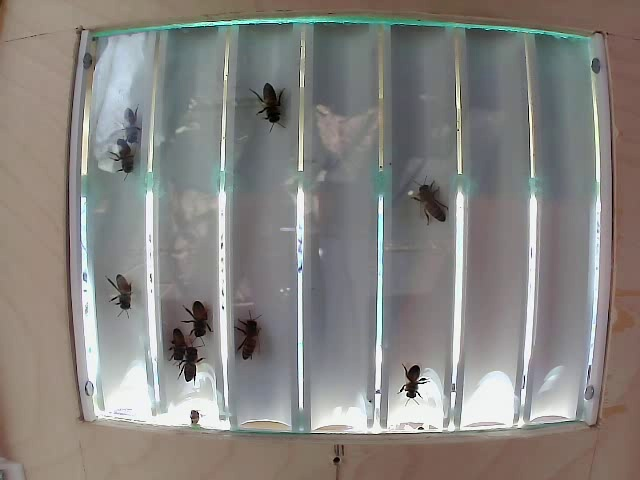bee: (229, 308, 279, 359), (95, 260, 142, 313), (413, 177, 452, 239), (118, 105, 159, 147), (111, 131, 139, 187), (255, 76, 289, 122), (168, 337, 201, 381), (190, 289, 220, 333), (402, 354, 425, 404), (158, 325, 184, 362)
